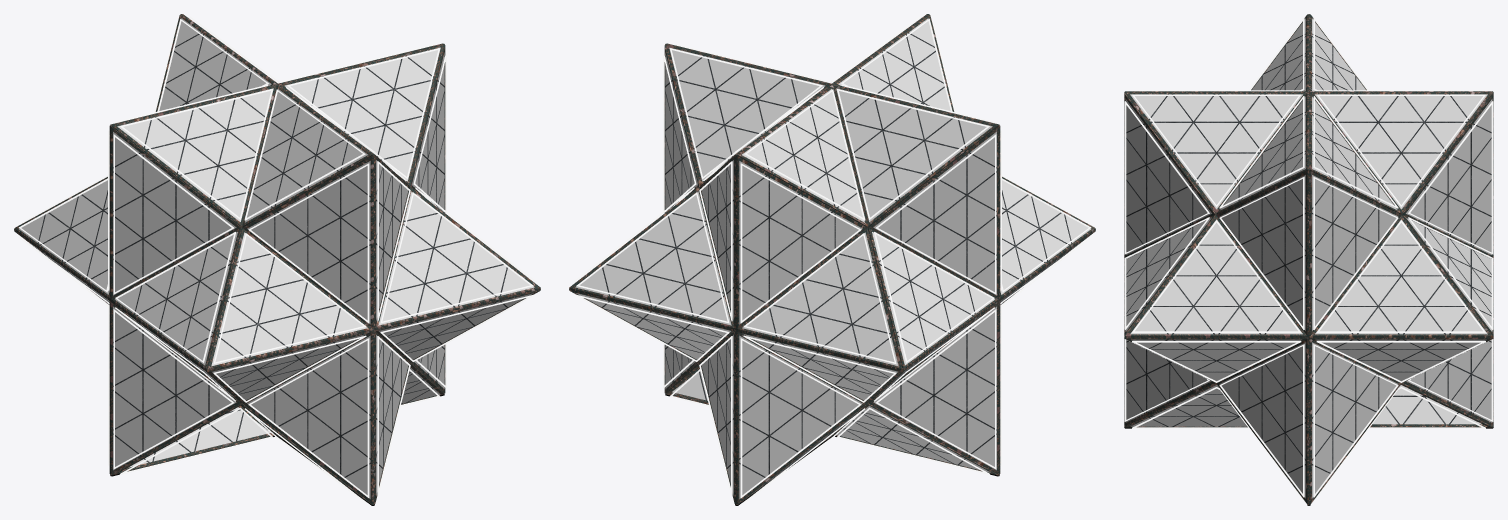
File: yetenekler-kristali.glb
3 renders of one model, left to right at view 1: azimuth 30°, elevation 25°; view 2: azimuth 150°, elevation 25°; view 3: azimuth 270°, elevation 25°, orthographic. The views are drawn at different scales.
Visible parts, largest first — view 1: ROOM_0; view 2: ROOM_0; view 3: ROOM_0.
Part boxes in pixels (x1,y1,x2,y2): ROOM_0: (14, 14, 540, 505); ROOM_0: (569, 14, 1095, 505); ROOM_0: (1124, 14, 1493, 505).
Size of the model in its own units: 16 by 16.05 by 16.
6 materials, 3 textured.
